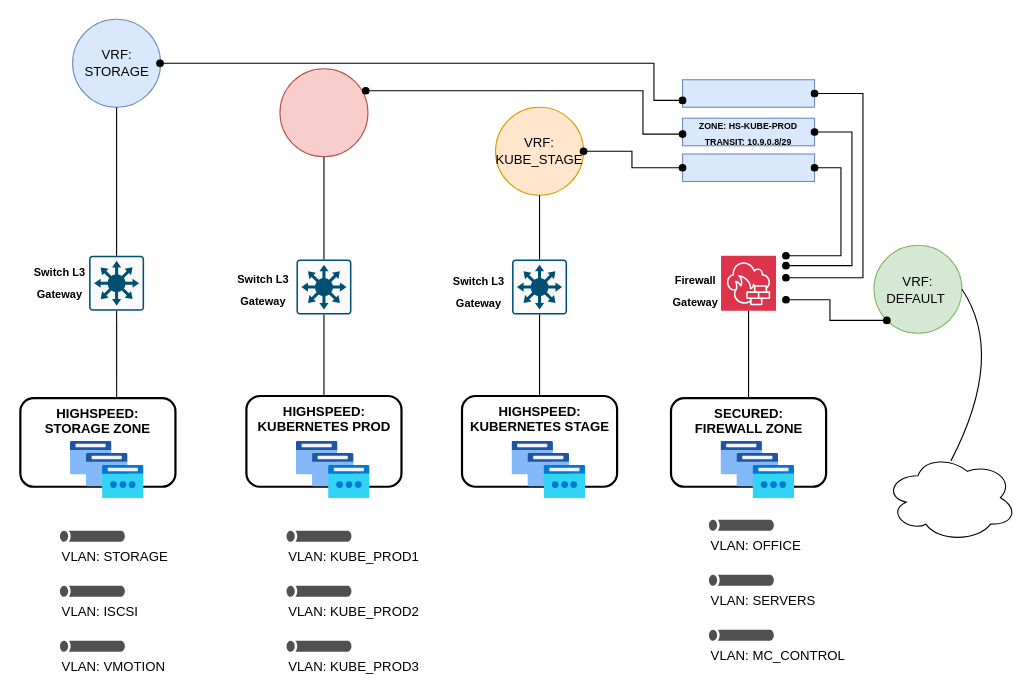
Some shapes in this 1036 by 694 pixel diagram are drawn without their labels. The centre of each missing label's shape, as x and y in pixels:
INTERNET: [950,497]
VRF: KUBE_PROD: [323,112]
ZONE: HS-KUBE-STAGE TRANSIT: 10.9.0.16/29: [748,167]
ZONE: HS-STORAGE TRANSIT: 10.9.0.0/29: [748,93]
